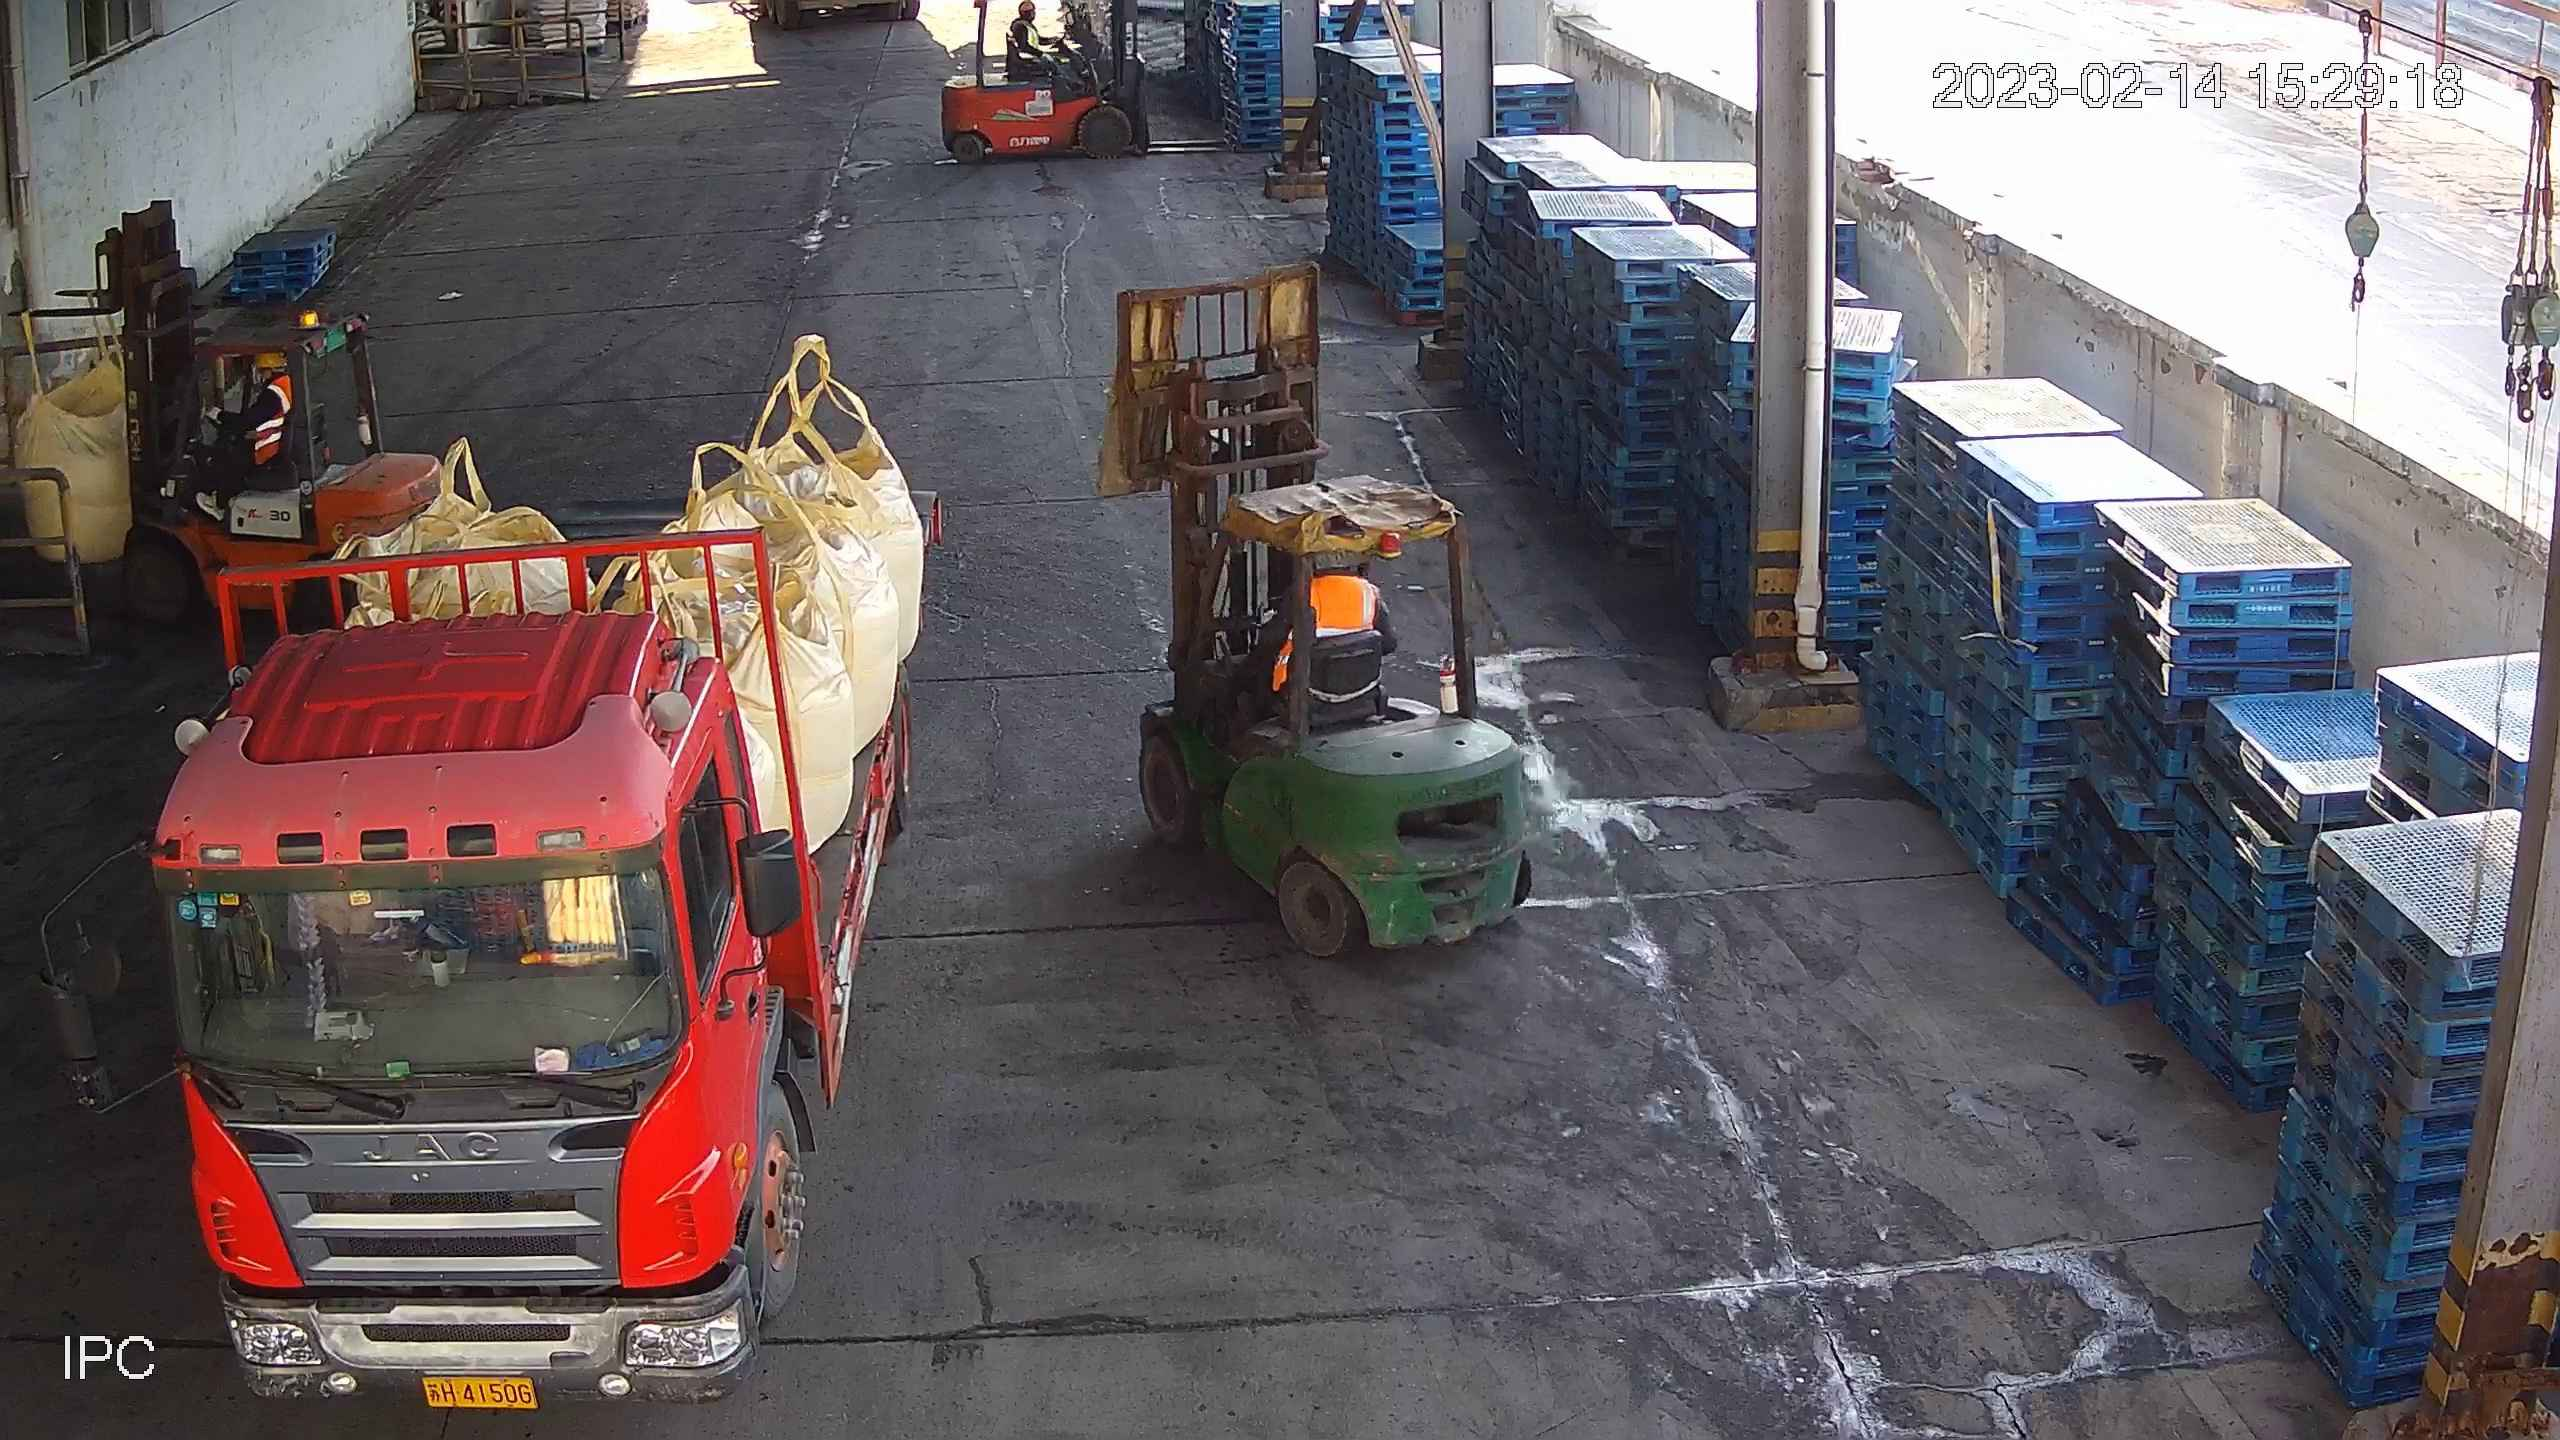head: (249, 351, 292, 406)
helmet: (254, 350, 287, 369)
people: (191, 351, 293, 524)
truck: (33, 489, 941, 1402)
